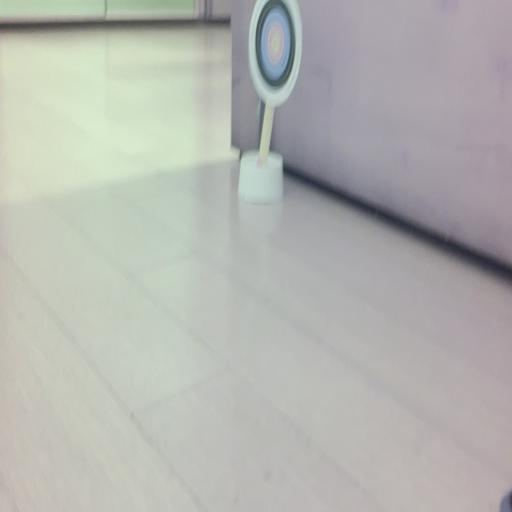target: (250, 0, 302, 107)
